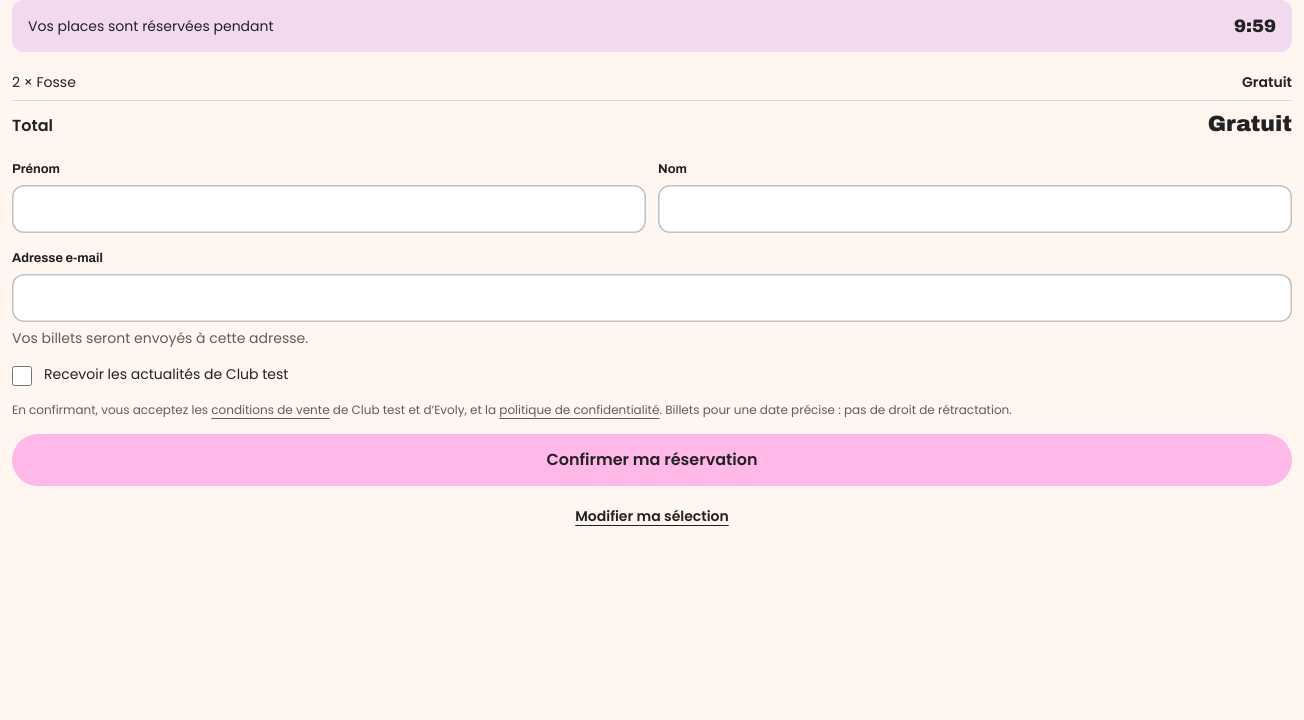
Test: panier (paiement et commande gratuite) › refus du serveur : l'explication s'affiche et le bouton redevient utilisable
This screenshot has width=1304, height=720.
In the field labelled "Prénom": (329, 209) [12,185,646,233], type "Léa"
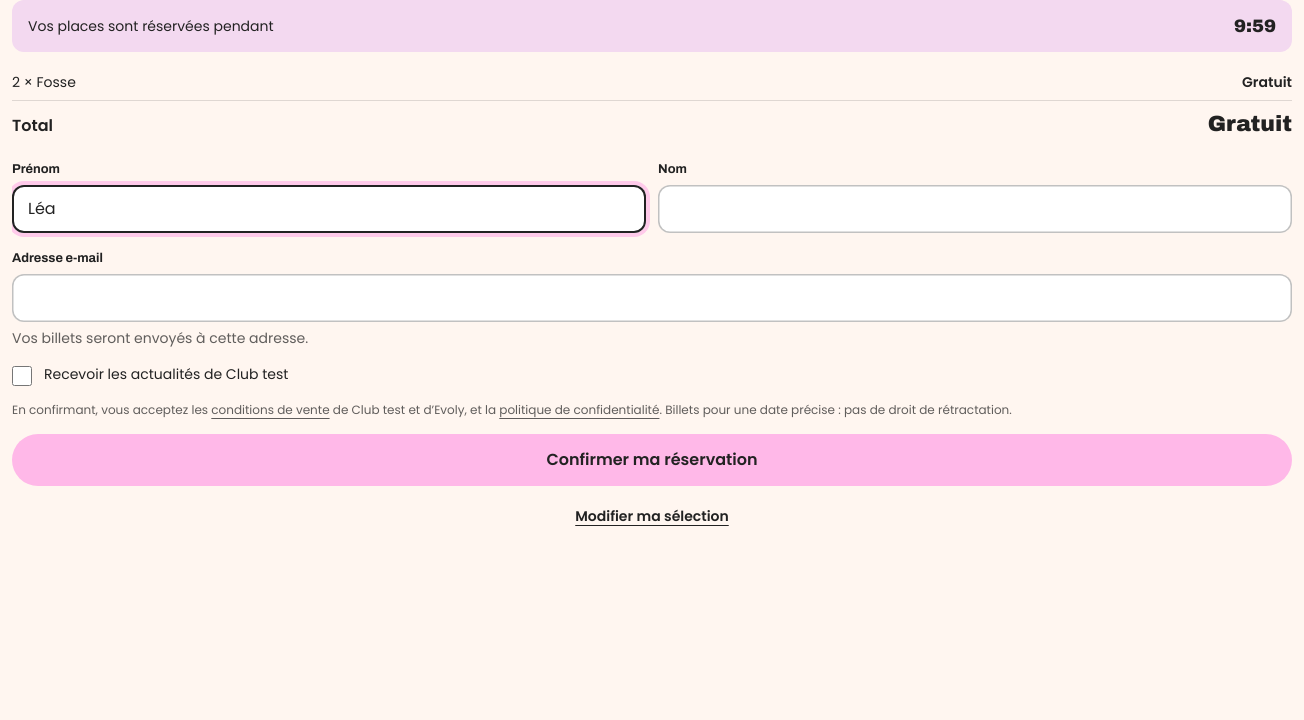
In the field labelled "Nom": (975, 209) [658,185,1292,233], type "Martin"
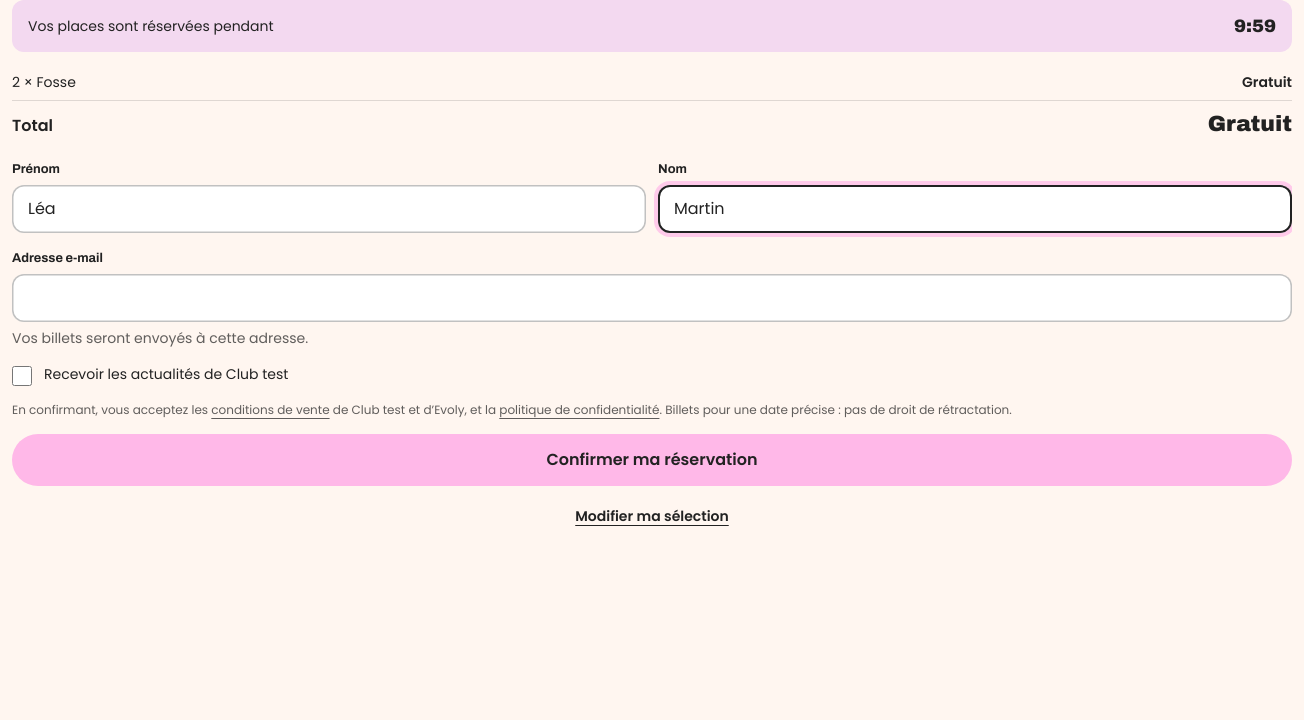
In the field labelled "Adresse e-mail": (652, 298) [12,274,1292,322], type "lea@exemple.be"
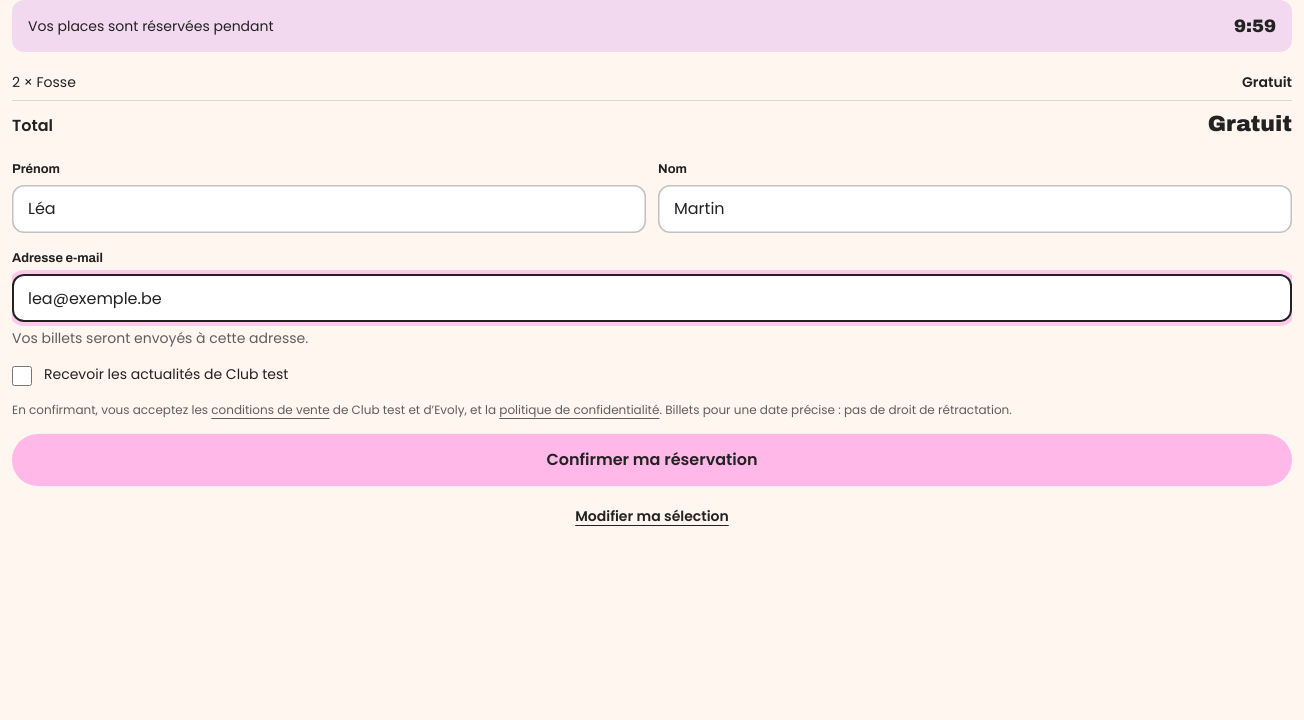
Click the button "Confirmer ma réservation": (652, 460) [12,434,1292,486]
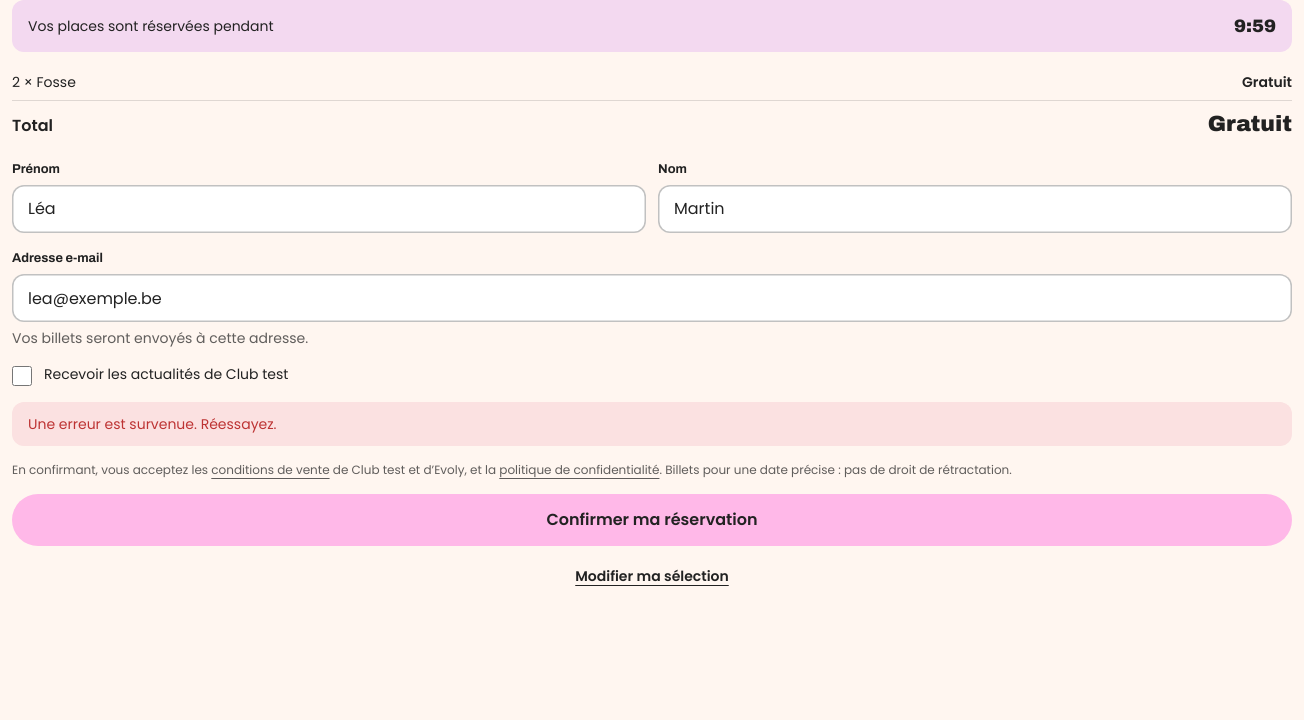
Expected: the button "Confirmer ma réservation" is enabled, [12,494,1292,546]
Expected: the text "Une erreur est survenue. Réessayez." is shown, [12,402,1292,446]
